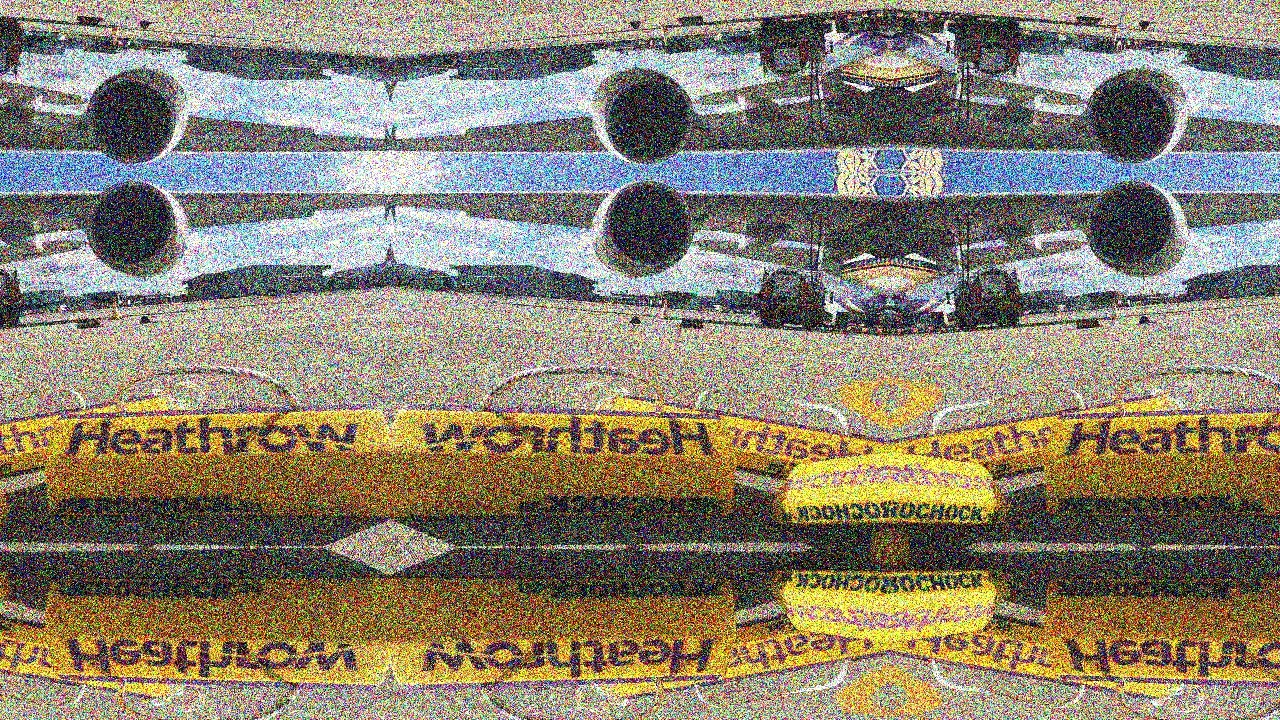chock: (38, 388, 390, 543), (390, 388, 742, 543), (38, 552, 390, 706), (390, 552, 742, 706), (1038, 388, 1280, 543), (1038, 552, 1280, 706), (607, 393, 890, 490), (890, 393, 1173, 490), (607, 605, 890, 702), (890, 605, 1173, 702), (0, 393, 173, 490), (0, 605, 173, 702), (769, 427, 890, 539), (890, 427, 1011, 539), (769, 556, 890, 668), (890, 556, 1011, 668), (0, 427, 11, 539), (0, 556, 11, 668)
